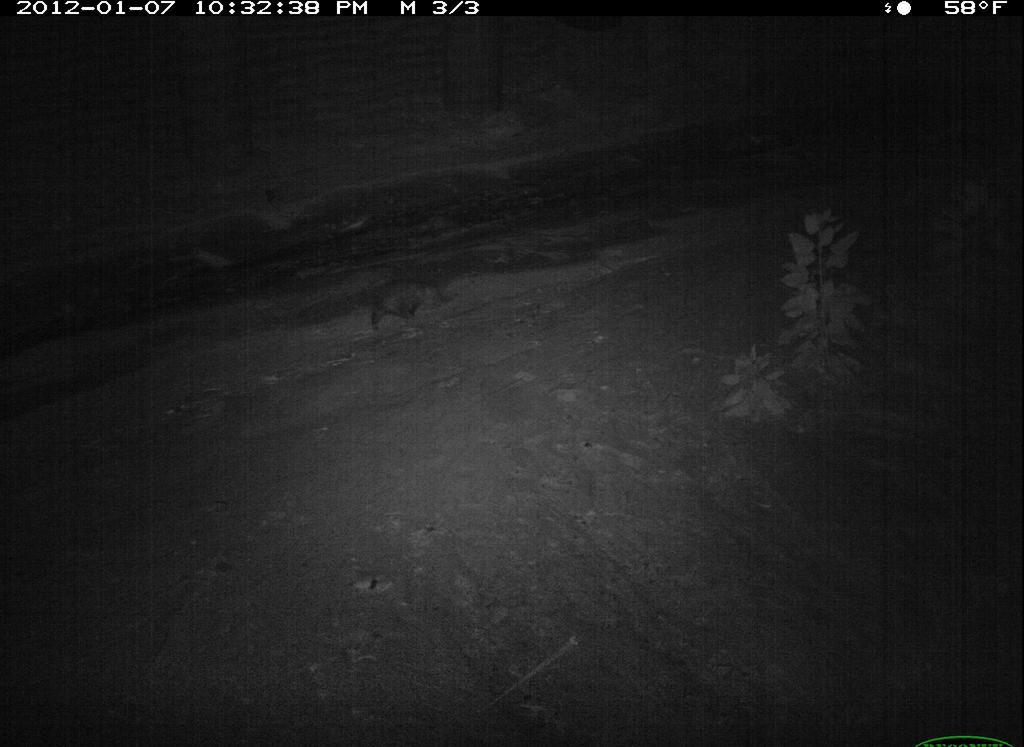opossum: (363, 273, 464, 345)
